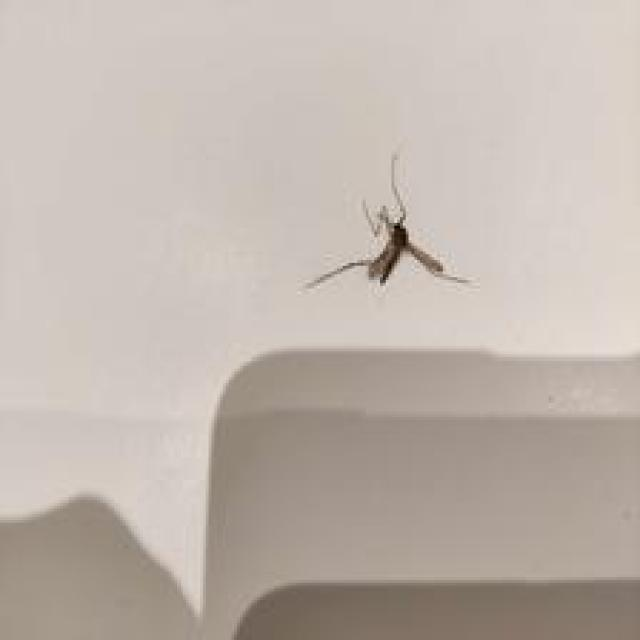Culex: (303, 150, 471, 293)
